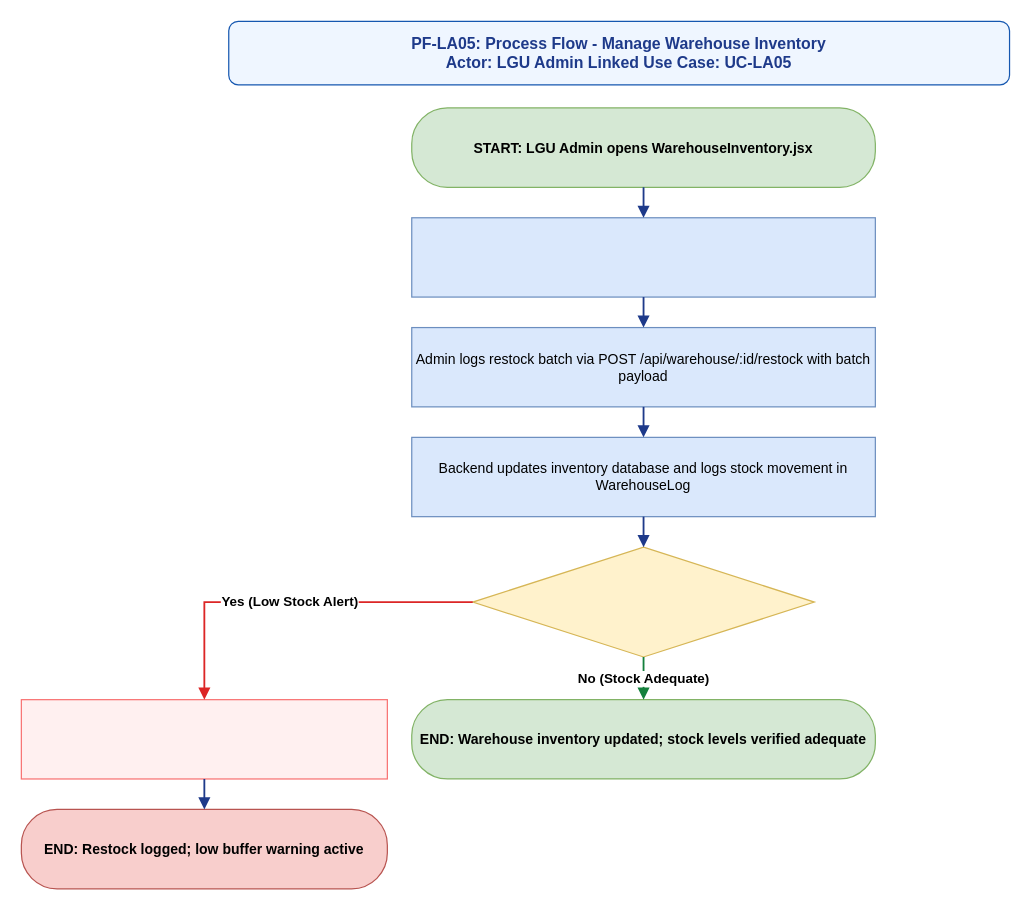
The diagram is 1031 pixels wide and 910 high, and some of its shapes have lost their labels. Here are the shapes that lost their labels. From the top down, the box of each, then its label:
(411, 217, 875, 297): Calls GET /api/warehouse to fetch stock counts (Food, Water, Medicine, NFIs)
(472, 546, 814, 657): Stock below minimum safety buffer threshold?
(20, 698, 387, 779): Trigger automated Low Stock replenishment alert on Command Dashboard
